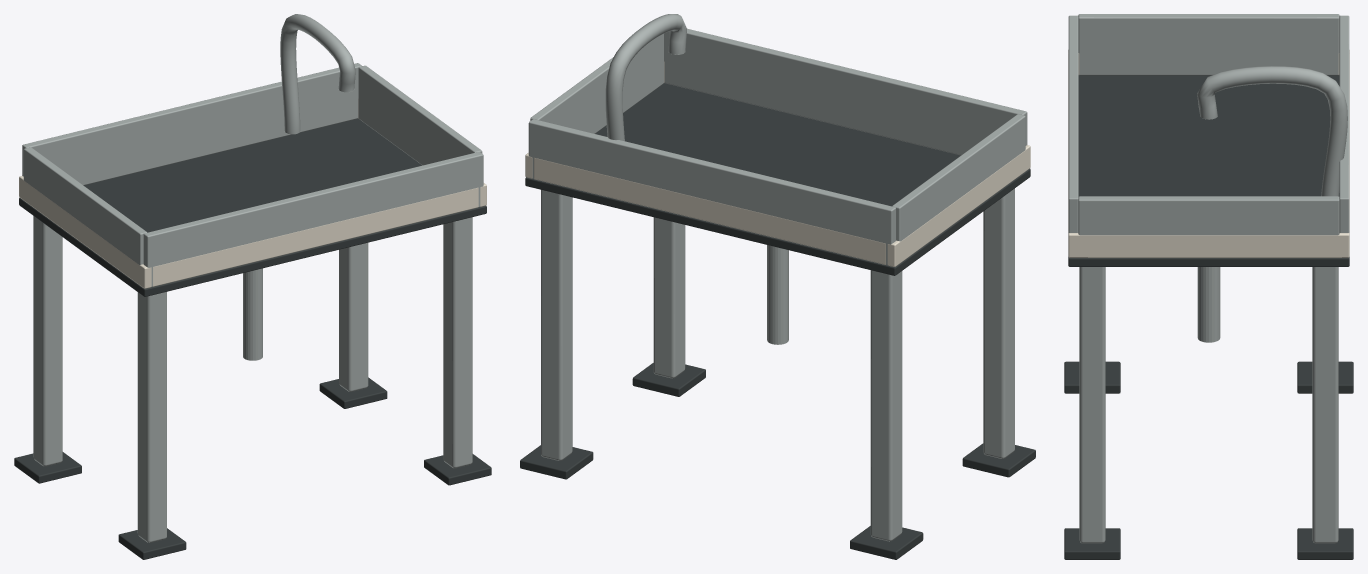
File: indoor-climbing-and-bouldering-gym-indoor-climbing-and-7d3d1b09__31537.glb
The picture shows the model from 3 angles, left to right: view 1: azimuth 30°, elevation 25°; view 2: azimuth 150°, elevation 25°; view 3: azimuth 270°, elevation 25°; orthographic projection. The views are drawn at different scales.
Parts seen in each view (by area): view 1: indoor-climbing-and-bouldering-gym-hold-wash-basin; view 2: indoor-climbing-and-bouldering-gym-hold-wash-basin; view 3: indoor-climbing-and-bouldering-gym-hold-wash-basin.
Part boxes in pixels (bbox=[...]): indoor-climbing-and-bouldering-gym-hold-wash-basin: bbox=[14, 14, 491, 559]; indoor-climbing-and-bouldering-gym-hold-wash-basin: bbox=[520, 14, 1035, 559]; indoor-climbing-and-bouldering-gym-hold-wash-basin: bbox=[1064, 14, 1353, 559].
Size of the model in its own units: 1.12 by 1.23 by 0.7201.
